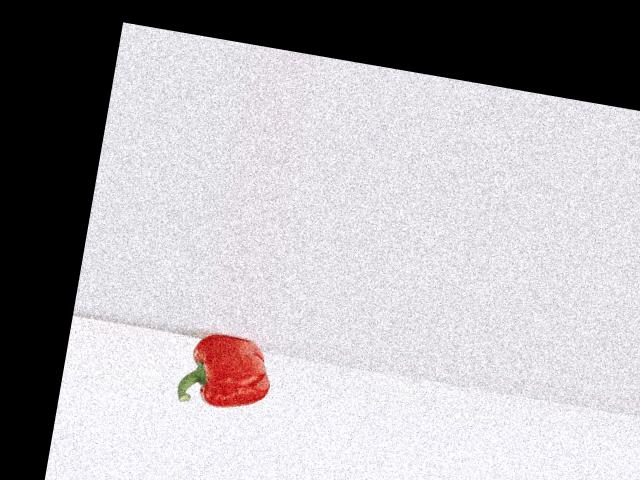bell_pepper: (166, 324, 281, 419)
